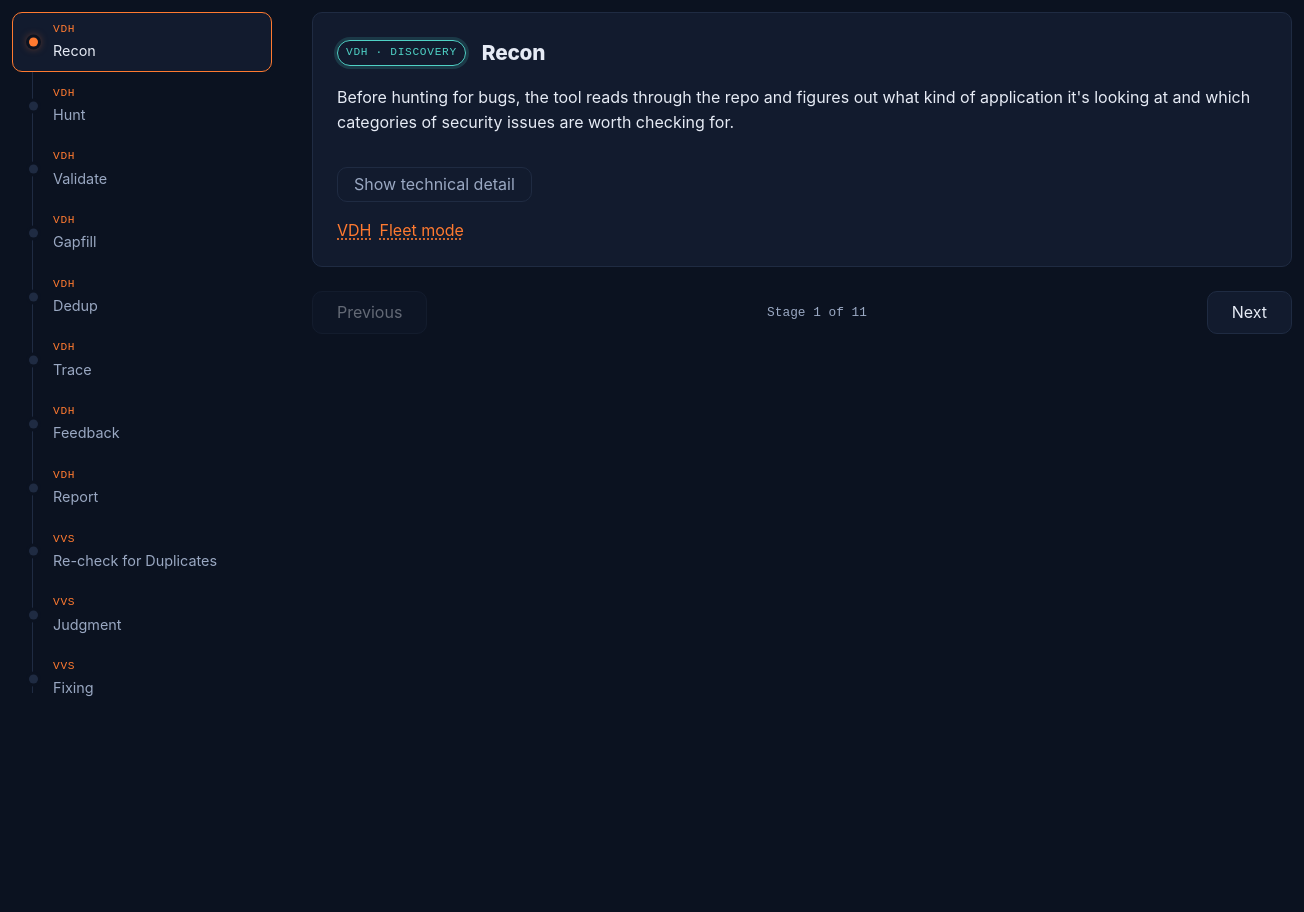
Walkthrough › moves to the next stage on Next click
Click the button "Next": (1249, 313) [1207, 291, 1292, 334]
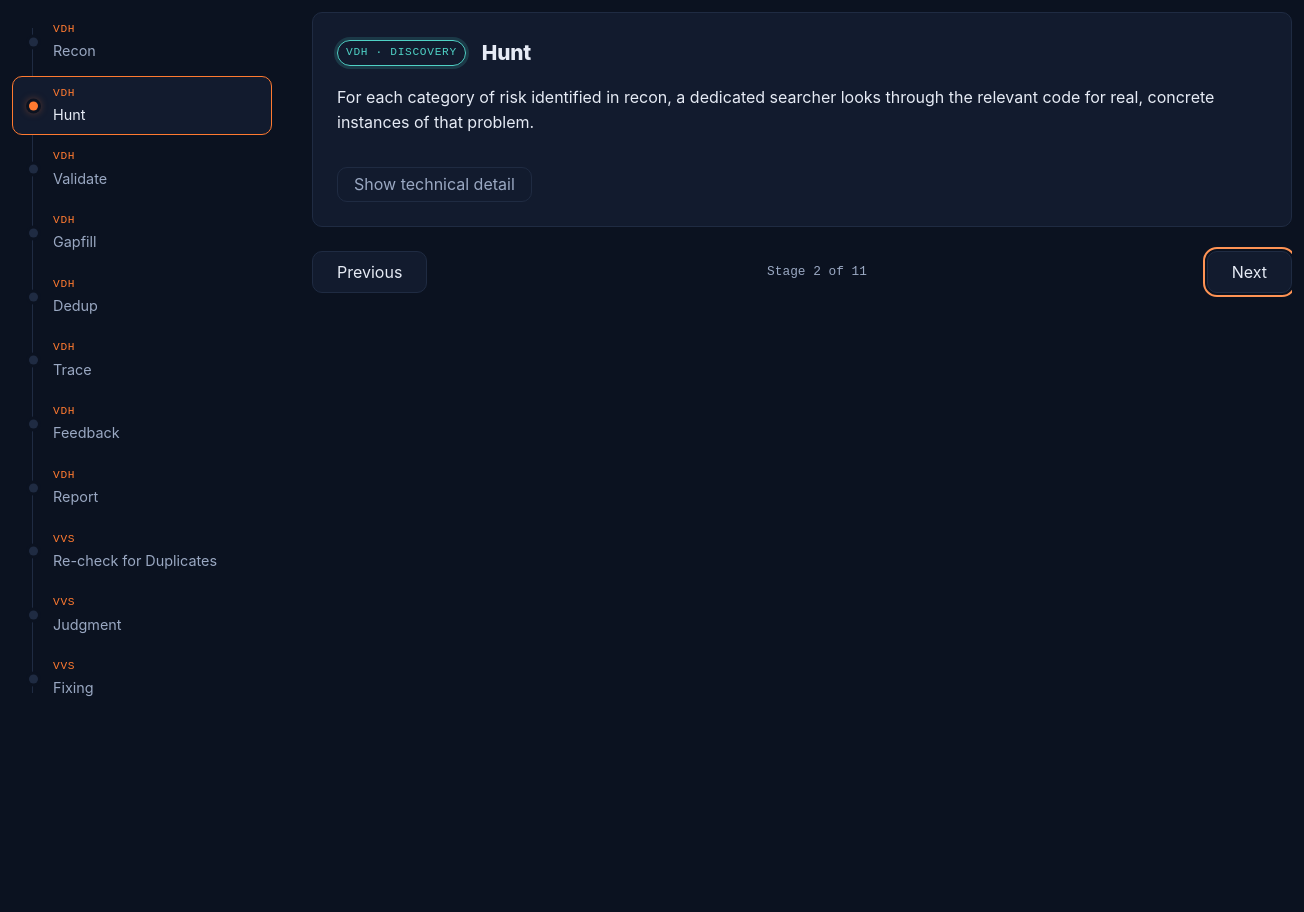
Now the heading "Hunt" is shown, box [482, 37, 531, 69]
